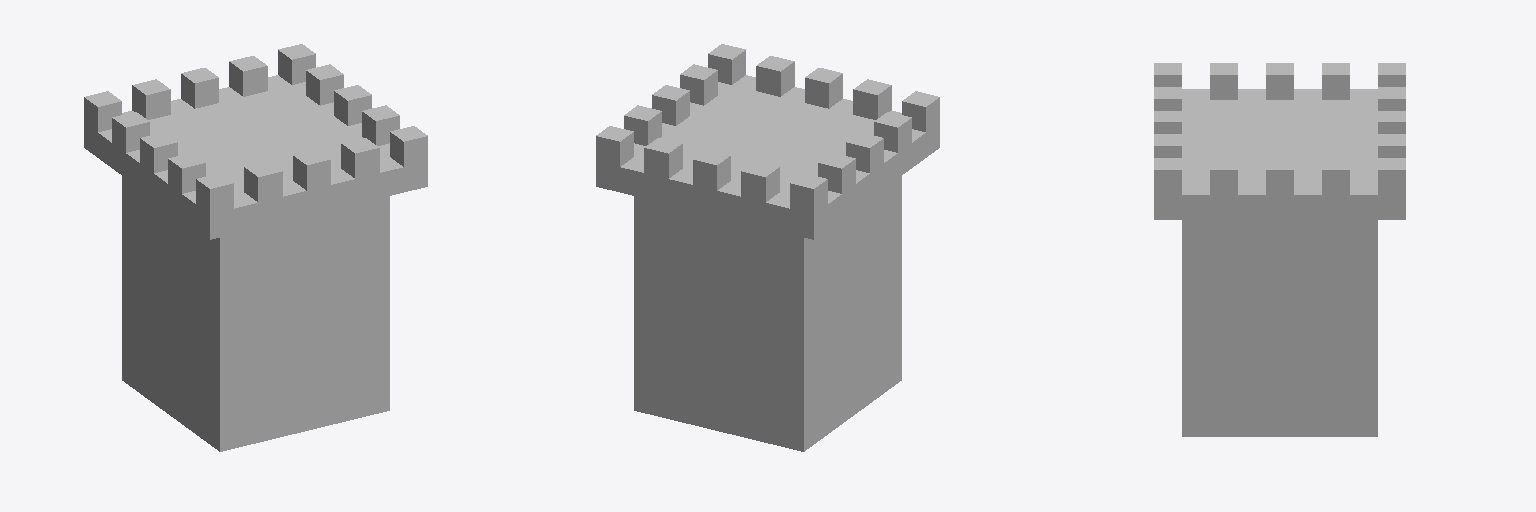
Rendered from Barracks.obj.
The picture shows the model from 3 angles: view 1: azimuth 30°, elevation 25°; view 2: azimuth 150°, elevation 25°; view 3: azimuth 270°, elevation 25°; orthographic projection.
Visible parts, largest first — view 1: cuboid, Rampart; view 2: cuboid, Rampart; view 3: cuboid, Rampart.
Boxes of the visible parts, x1=… form: cuboid: x1=84, y1=75, x2=427, y2=451; Rampart: x1=84, y1=44, x2=427, y2=213; cuboid: x1=596, y1=75, x2=939, y2=451; Rampart: x1=596, y1=44, x2=939, y2=213; cuboid: x1=1154, y1=89, x2=1405, y2=436; Rampart: x1=1154, y1=63, x2=1405, y2=194.
Size of the model in its own units: 1.12 by 1.38 by 1.12.